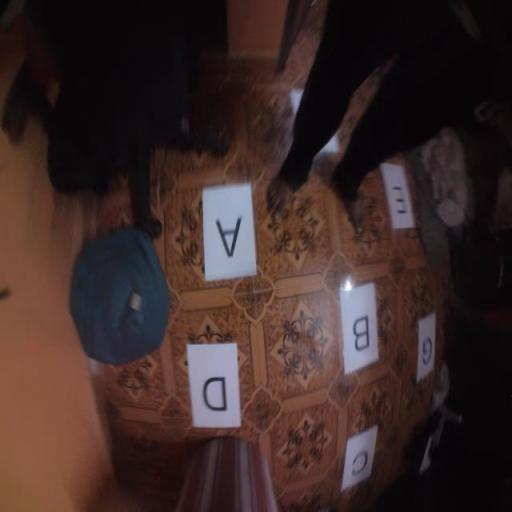A: (202, 181, 256, 282)
B: (339, 283, 380, 373)
C: (341, 423, 379, 492)
D: (186, 342, 240, 428)
E: (378, 162, 416, 229)
G: (416, 311, 437, 382)
